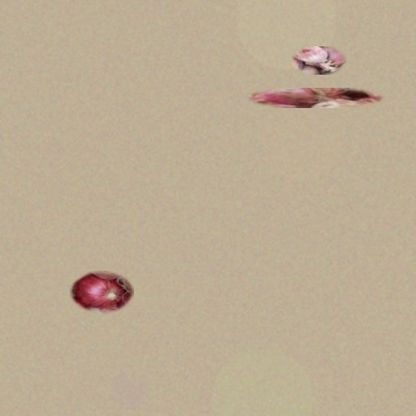healthy: (70, 271, 134, 314)
rotten: (245, 88, 386, 108)
sprouted: (292, 46, 346, 75)
